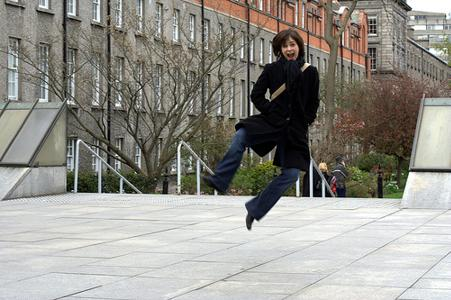person: (200, 29, 321, 229)
